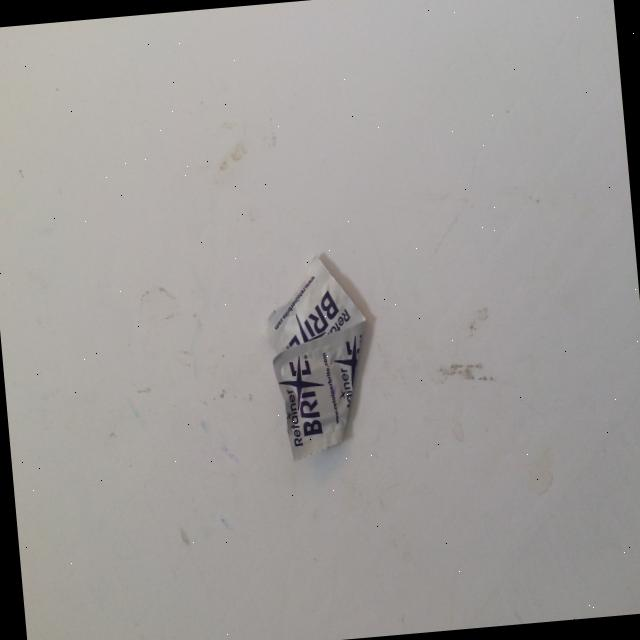plastic: (259, 250, 377, 463)
